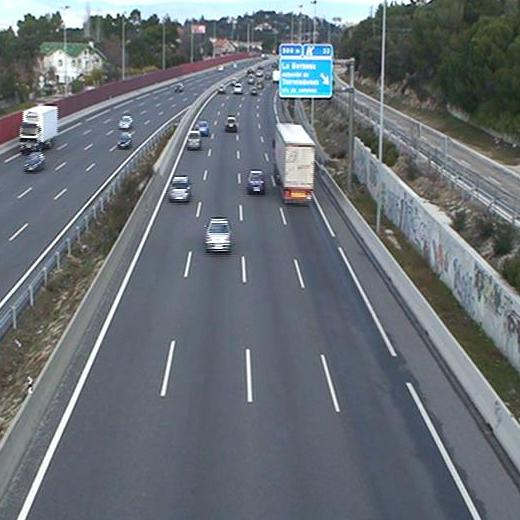car: (202, 218, 234, 250), (166, 175, 192, 201), (246, 169, 265, 195), (186, 129, 201, 149), (225, 116, 239, 129), (197, 121, 210, 135)
truck: (271, 122, 316, 206)
